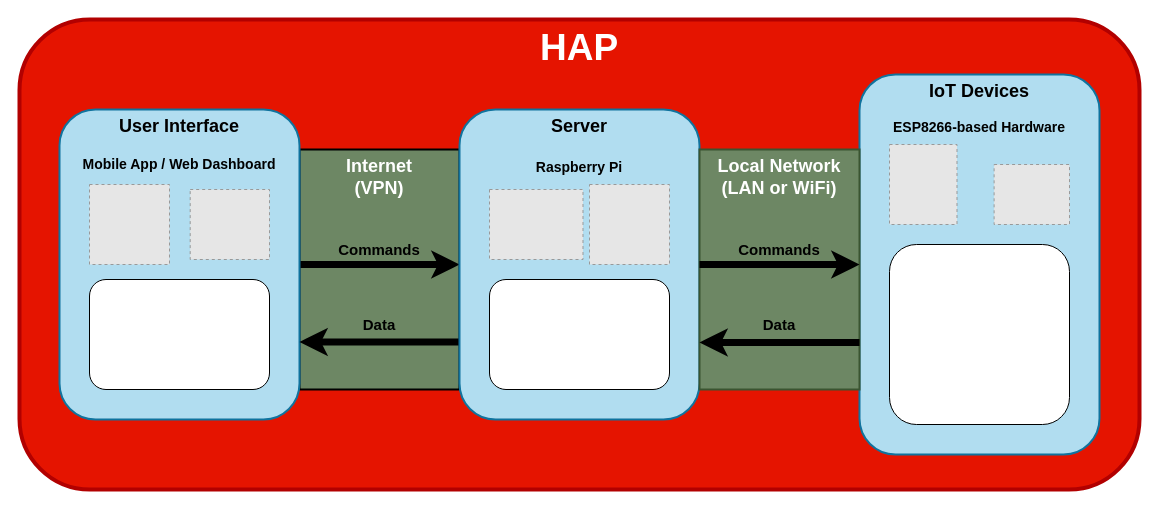
The diagram is 1158 pixels wide and 508 high, and some of its shapes have lost their labels. Grey dashed boxes stand in for pictures. The box of each missing label's shape, as (x1, y1, x2, y2) in pixels:
Control Monitoring Configuration: (88, 278, 270, 390)
Lamp Irrigation System Air Conditioner Door lock Others: (888, 244, 1070, 424)
MQTT Broker Local Database Application Logic: (488, 278, 670, 390)
